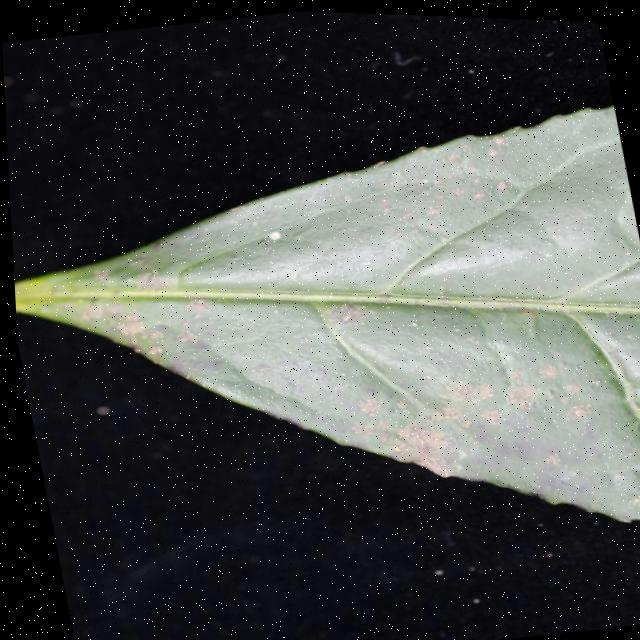Tea algae leaf spot: (76, 89, 633, 535)
